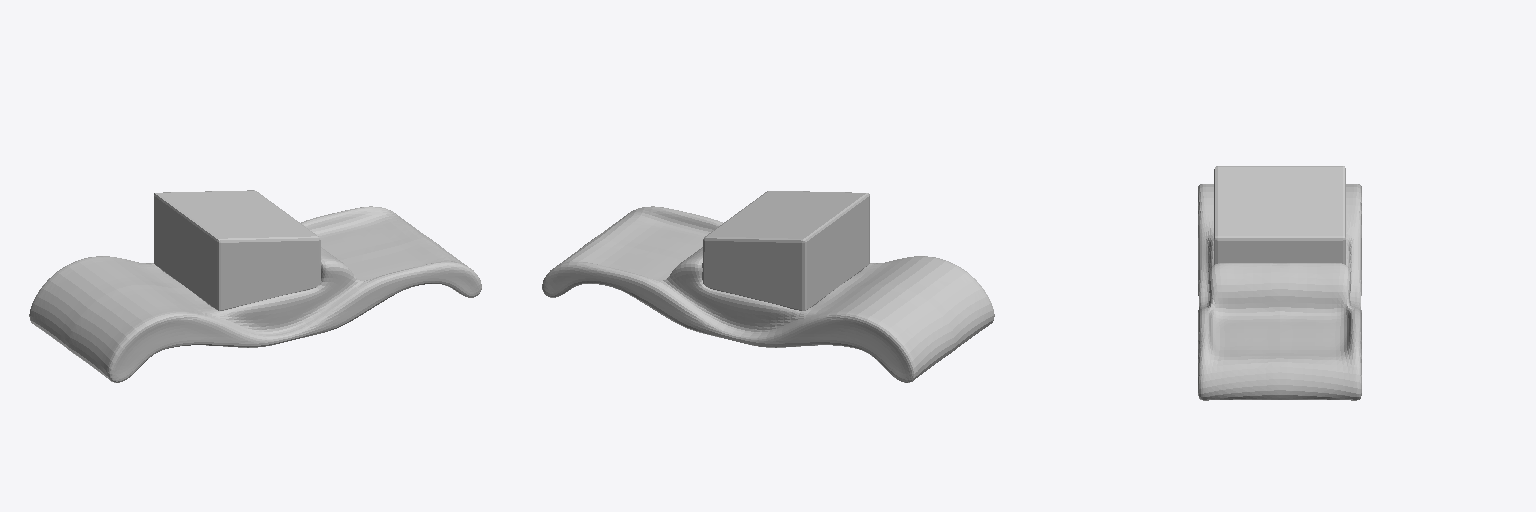
The model's file is Clown-Car.obj.
3 renders of one model, left to right at view 1: azimuth 30°, elevation 25°; view 2: azimuth 150°, elevation 25°; view 3: azimuth 270°, elevation 25°, orthographic.
Visible parts, largest first — view 1: car4; view 2: car4; view 3: car4.
Boxes of the visible parts, <box> form: car4: <box>29,190,481,382</box>; car4: <box>542,191,994,382</box>; car4: <box>1198,166,1361,400</box>.
Bounding box in the file's own units: 3860 × 1114 × 1463.